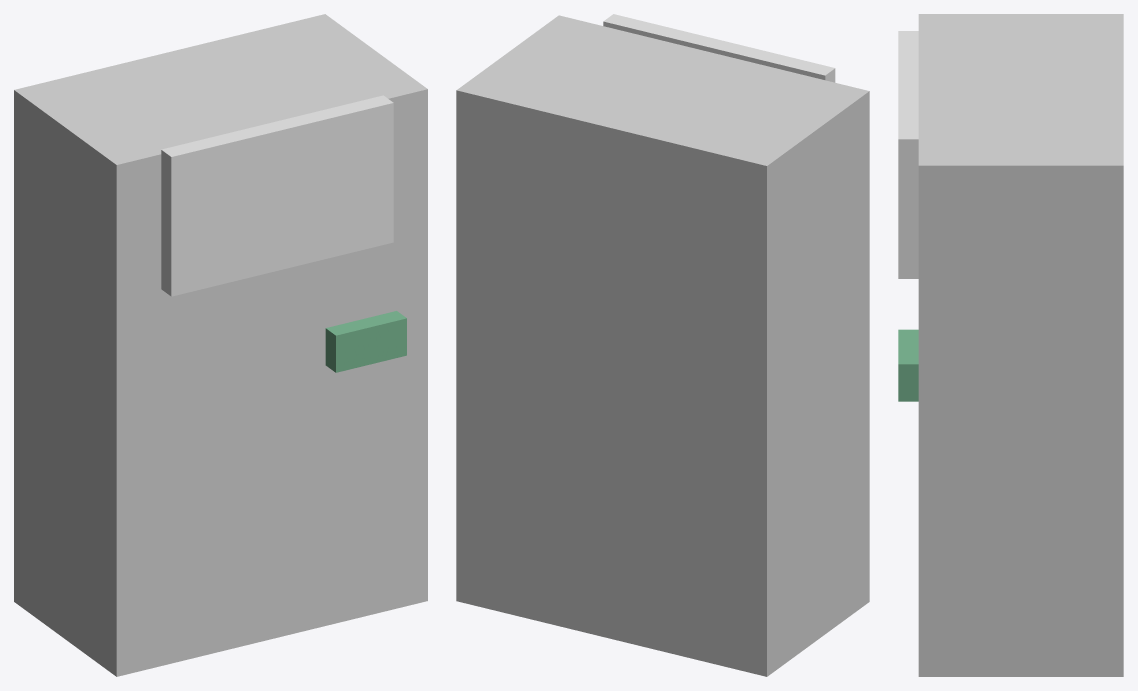
Rendered from air_purifier.glb.
3 views of the same model, side by side, from view 1: azimuth 30°, elevation 25°; view 2: azimuth 150°, elevation 25°; view 3: azimuth 270°, elevation 25° (orthographic).
Parts seen in each view (by area): view 1: body, vent, indicator; view 2: body, vent; view 3: body, vent, indicator.
Boxes of the visible parts, <box> form: body: <box>14,14,427,676</box>; vent: <box>161,95,393,296</box>; indicator: <box>325,311,406,372</box>; body: <box>456,15,869,676</box>; vent: <box>603,14,835,82</box>; body: <box>918,14,1123,676</box>; vent: <box>898,31,918,278</box>; indicator: <box>898,329,918,401</box>.
Size of the model in its own units: 0.35 by 0.555 by 0.22.
